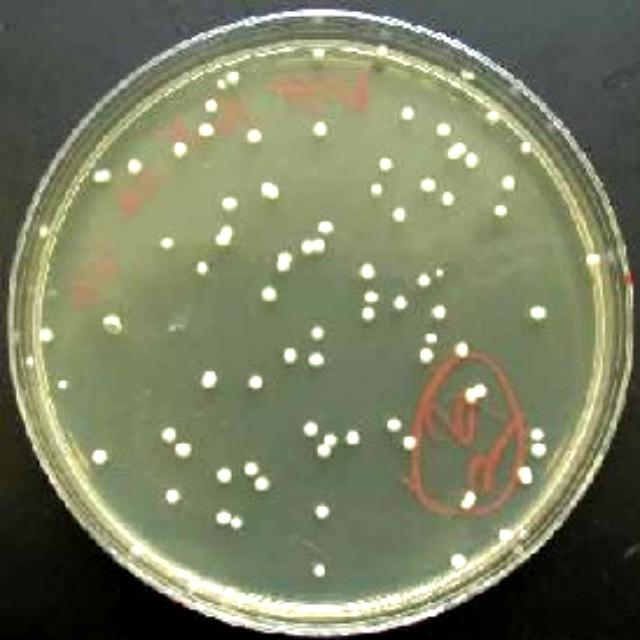colony: (465, 382, 488, 404), (102, 315, 120, 334), (276, 251, 292, 272), (262, 181, 279, 199), (448, 142, 466, 159), (201, 371, 218, 388), (261, 285, 278, 302), (215, 229, 232, 246), (450, 552, 468, 568), (308, 351, 325, 367), (302, 421, 319, 437), (360, 262, 376, 279), (198, 122, 215, 137), (314, 504, 330, 519), (531, 442, 546, 458), (94, 169, 111, 183), (465, 151, 479, 168), (460, 490, 472, 509), (161, 428, 176, 443), (165, 489, 180, 504), (216, 468, 231, 483), (416, 272, 431, 287), (175, 444, 191, 458), (174, 141, 188, 157), (246, 129, 262, 143), (312, 122, 328, 136), (311, 325, 325, 341), (455, 341, 469, 357), (420, 348, 434, 364), (361, 306, 375, 322), (392, 295, 408, 309), (501, 175, 515, 191), (519, 466, 531, 484), (255, 476, 269, 491), (128, 159, 142, 174), (216, 510, 231, 524), (310, 239, 325, 253), (530, 428, 545, 442), (431, 305, 446, 319), (441, 191, 455, 206), (485, 110, 500, 124), (222, 198, 238, 211), (318, 221, 334, 234), (530, 306, 546, 319), (420, 179, 436, 192), (94, 450, 108, 464), (244, 462, 258, 476), (40, 328, 54, 342), (230, 515, 244, 529), (248, 375, 262, 389), (318, 444, 332, 458), (226, 71, 239, 86), (284, 348, 296, 364), (324, 434, 338, 447), (346, 430, 359, 444), (312, 562, 324, 577), (404, 436, 416, 451), (364, 291, 379, 303), (370, 182, 382, 197), (388, 419, 401, 432), (392, 209, 405, 222), (382, 158, 394, 172), (400, 105, 412, 119), (494, 205, 508, 217), (196, 261, 208, 274), (436, 124, 449, 136), (160, 238, 174, 249), (301, 239, 311, 254), (205, 100, 216, 112), (312, 49, 324, 60), (426, 334, 438, 344), (521, 141, 531, 153), (376, 44, 385, 57), (435, 268, 445, 278), (59, 380, 68, 389)
